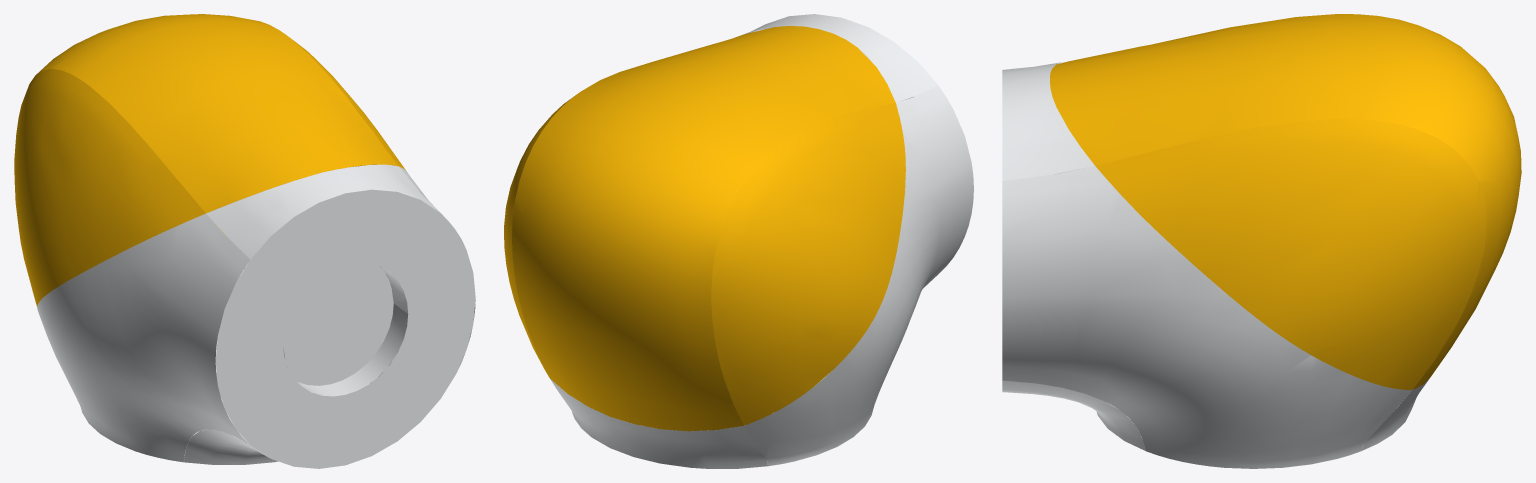
3 views of the same model, side by side, from view 1: azimuth 30°, elevation 25°; view 2: azimuth 150°, elevation 25°; view 3: azimuth 270°, elevation 25° (orthographic). The views are drawn at different scales.
Parts seen in each view (by area): view 1: DirectConnectNode_3-DC_Shell, DirectConnectNode_3-DC_Shell.001; view 2: DirectConnectNode_3-DC_Shell.001, DirectConnectNode_3-DC_Shell; view 3: DirectConnectNode_3-DC_Shell.001, DirectConnectNode_3-DC_Shell.
Boxes of the visible parts, bbox=[...] form: DirectConnectNode_3-DC_Shell: bbox=[37, 164, 475, 468]; DirectConnectNode_3-DC_Shell.001: bbox=[14, 14, 405, 306]; DirectConnectNode_3-DC_Shell.001: bbox=[504, 26, 905, 431]; DirectConnectNode_3-DC_Shell: bbox=[550, 14, 973, 468]; DirectConnectNode_3-DC_Shell.001: bbox=[1050, 14, 1521, 389]; DirectConnectNode_3-DC_Shell: bbox=[1002, 62, 1429, 468].
Bounding box in the file's own units: 0.1322 × 0.1674 × 0.1376.
